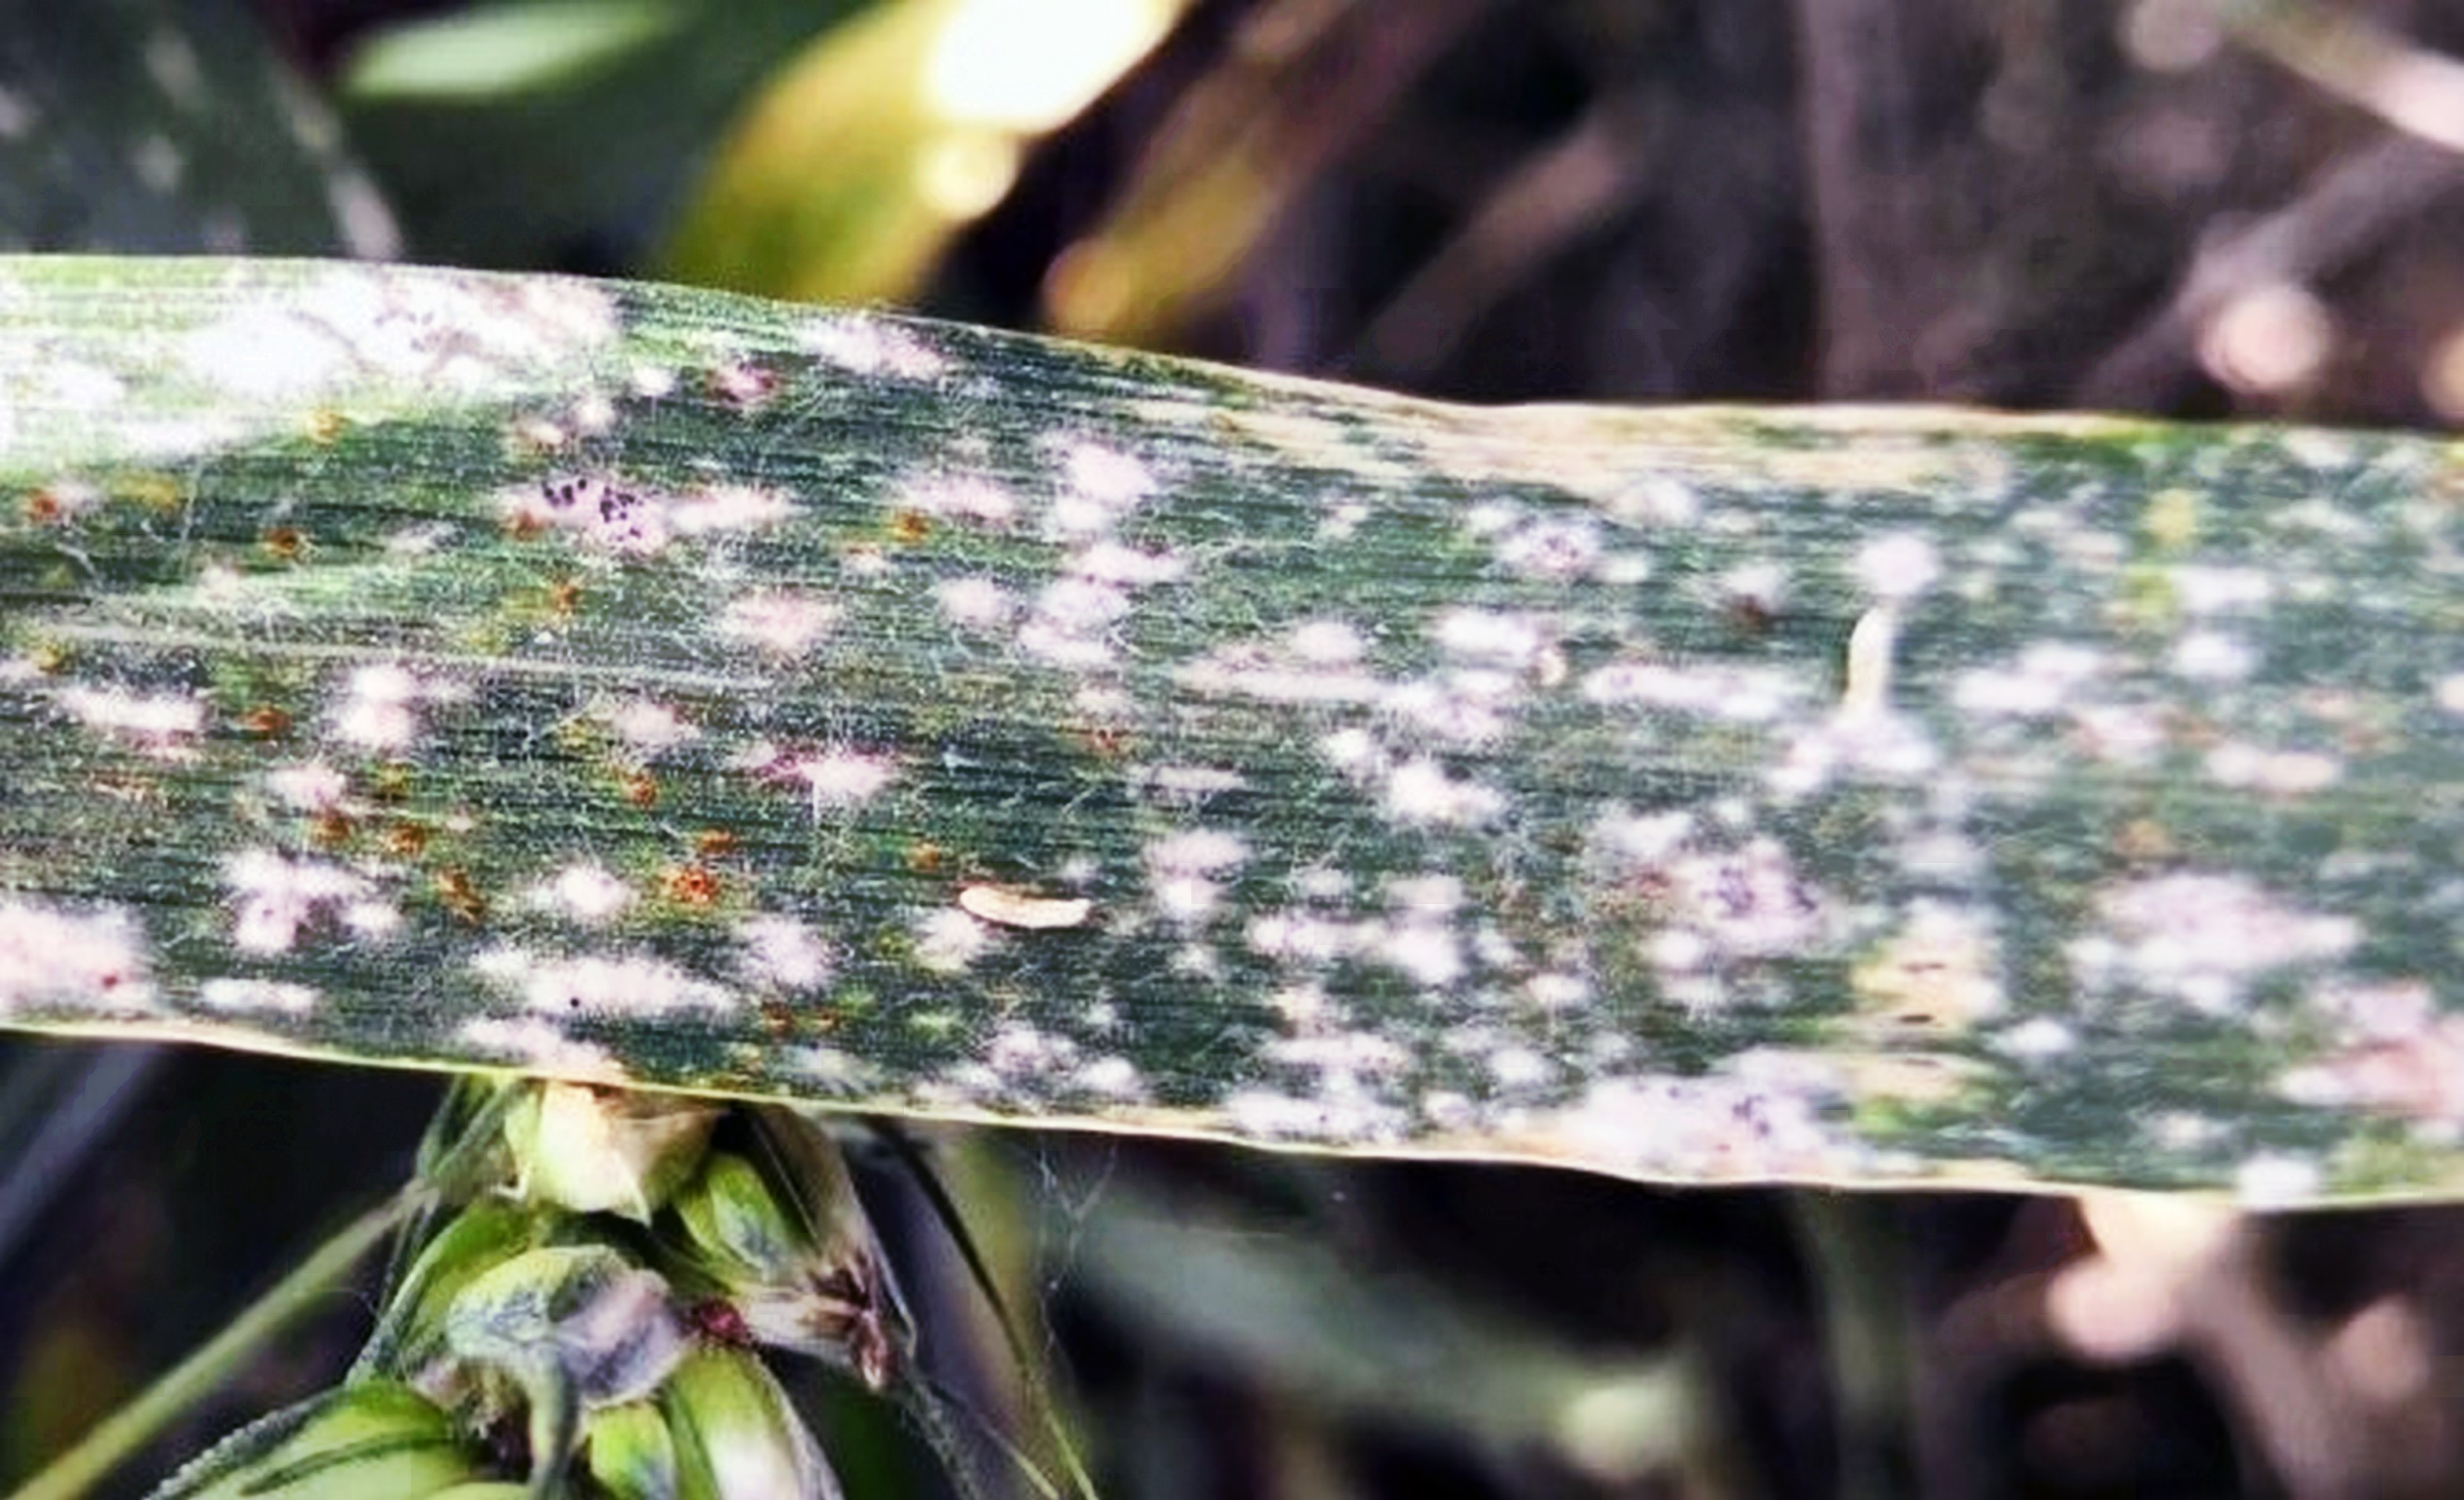Powdery Mildew: (165, 347, 2093, 1194)
